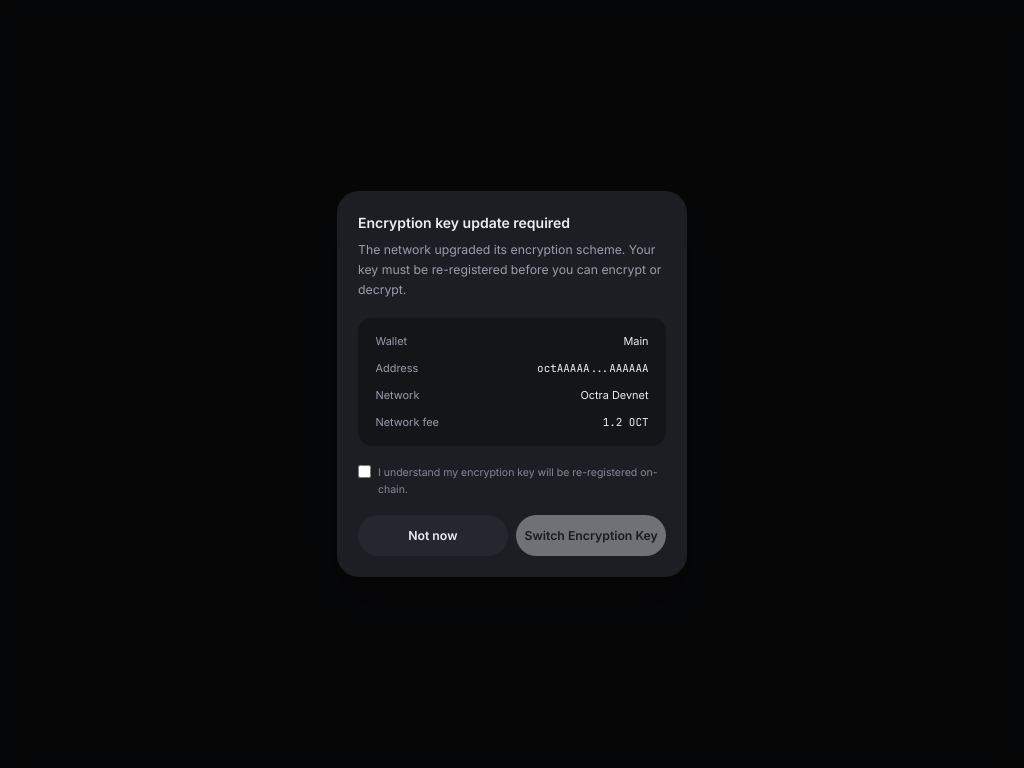
encryption key update review › refuses when public OCT does not cover the fee
Check: the text "1.2 OCT" is shown, box 603,414 -> 648,430
What coordinates should you click on to do the following:
click the checkbox
I would click on:
 (364, 472)
Its box is 358,466 -> 371,478.
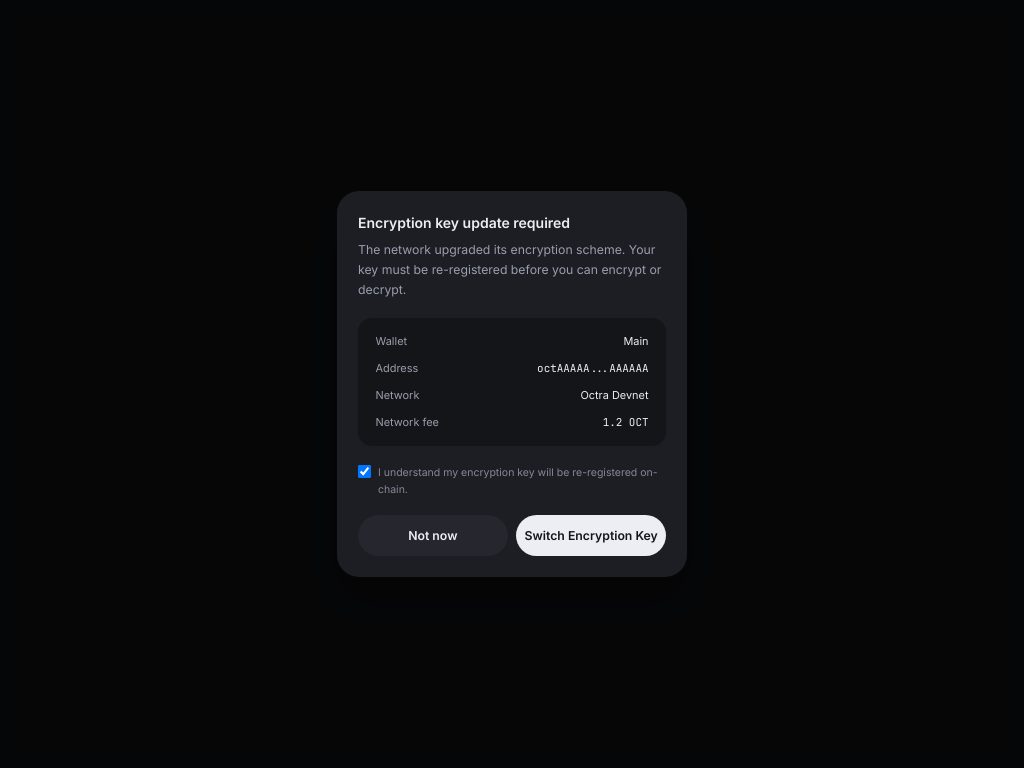
What coordinates should you click on to do the following:
click the button "Switch Encryption Key"
I would click on:
 (591, 536)
Its box is 516,515 -> 666,556.
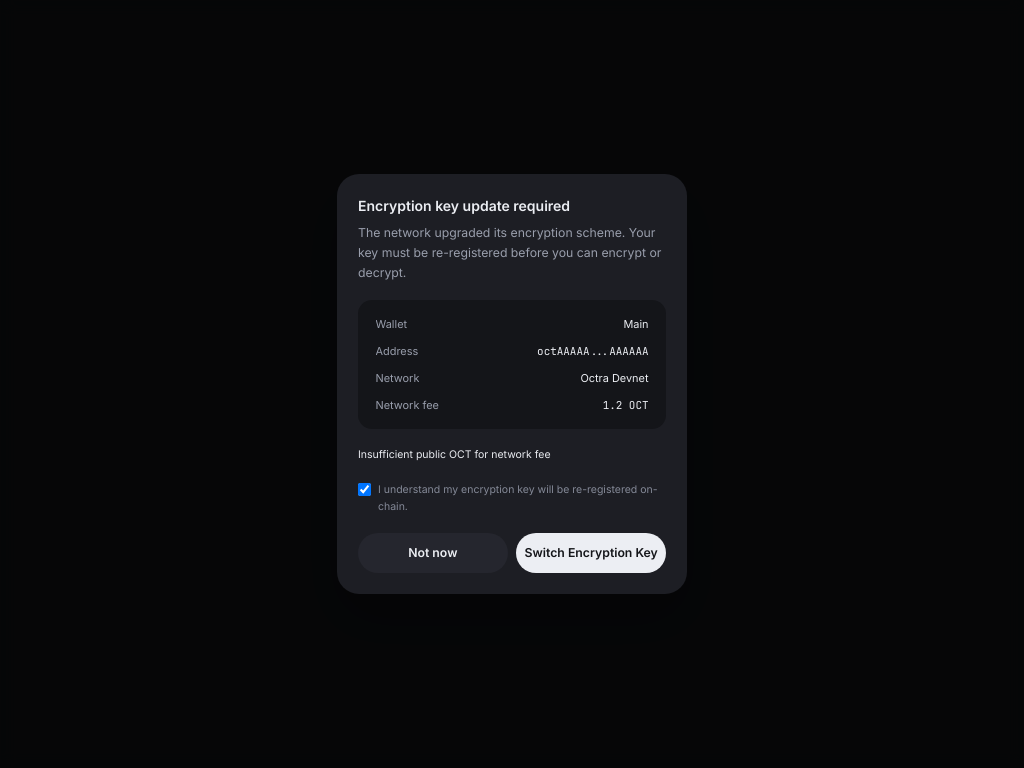
Check: the message reads "Insufficient public OCT for network fee", box 358,448 -> 550,462
